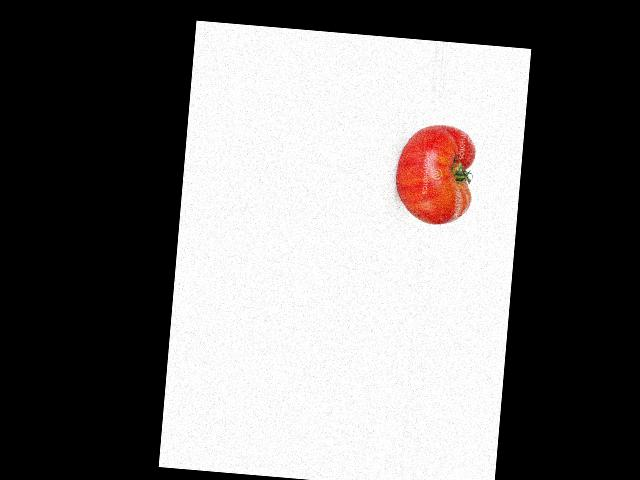tomato: (392, 122, 477, 227)
